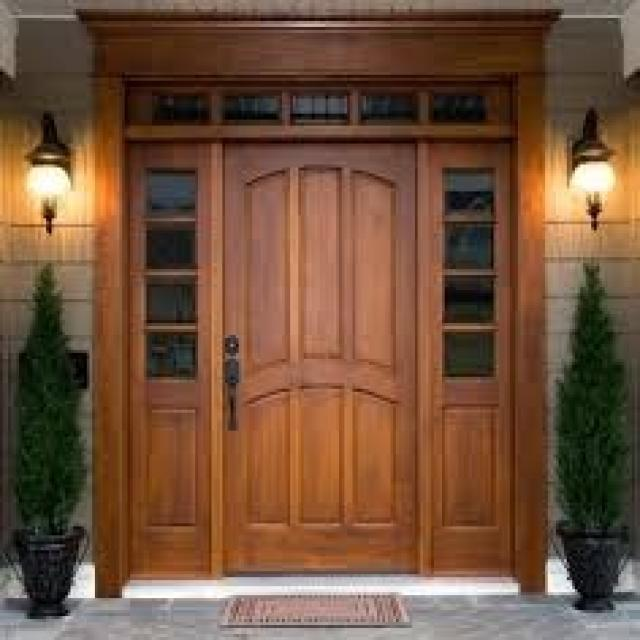Door: (209, 134, 423, 568)
